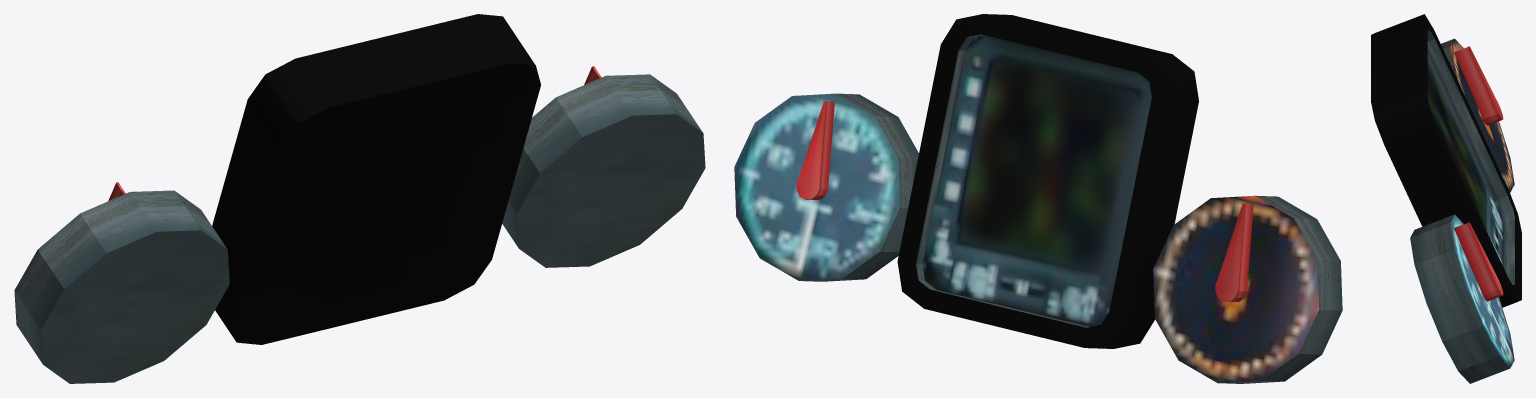
File: HEL_COCKPIT_PANEL.fbx
3 views of the same model, side by side, from view 1: azimuth 30°, elevation 25°; view 2: azimuth 150°, elevation 25°; view 3: azimuth 270°, elevation 25° (orthographic). The views are drawn at different scales.
Visible parts, largest first — view 1: HEL_BOSS_HP, HEL_DIAL_L1, HEL_DIAL_L; view 2: HEL_BOSS_HP, HEL_DIAL_L1, HEL_DIAL_L, HEL_DIAL_POINTER (×2); view 3: HEL_BOSS_HP, HEL_DIAL_L, HEL_DIAL_POINTER (×2), HEL_DIAL_L1.
Boxes of the visible parts, box(x1,y1,x2,y2) form: HEL_BOSS_HP: box(212, 14, 540, 344); HEL_DIAL_L1: box(14, 190, 229, 383); HEL_DIAL_L: box(502, 74, 705, 267); HEL_BOSS_HP: box(897, 14, 1198, 348); HEL_DIAL_L1: box(1153, 195, 1342, 383); HEL_DIAL_L: box(734, 93, 918, 281); HEL_DIAL_POINTER (×2): box(796, 101, 1253, 302); HEL_BOSS_HP: box(1371, 14, 1521, 307); HEL_DIAL_L: box(1410, 214, 1514, 383); HEL_DIAL_POINTER (×2): box(1454, 46, 1503, 301); HEL_DIAL_L1: box(1441, 38, 1514, 192).
Bounding box in the file's own units: 0.3223 × 0.1457 × 0.0837.
Materials: 1 (1 with a texture image).
